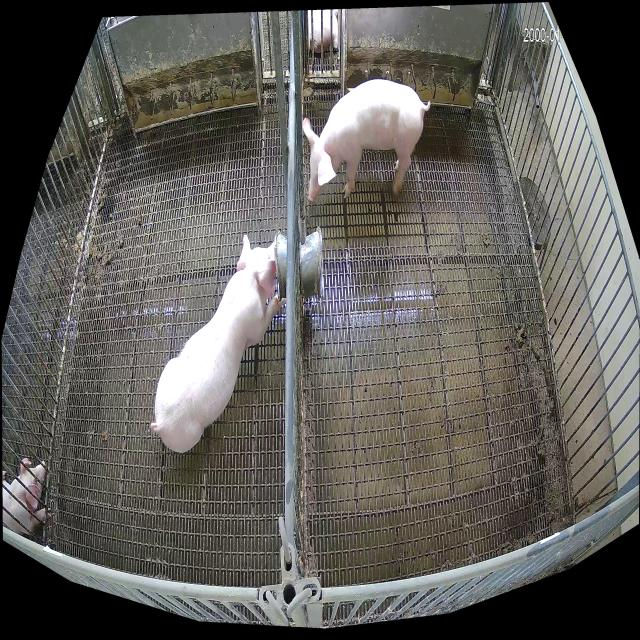pig: (151, 233, 285, 451), (302, 80, 431, 203)
